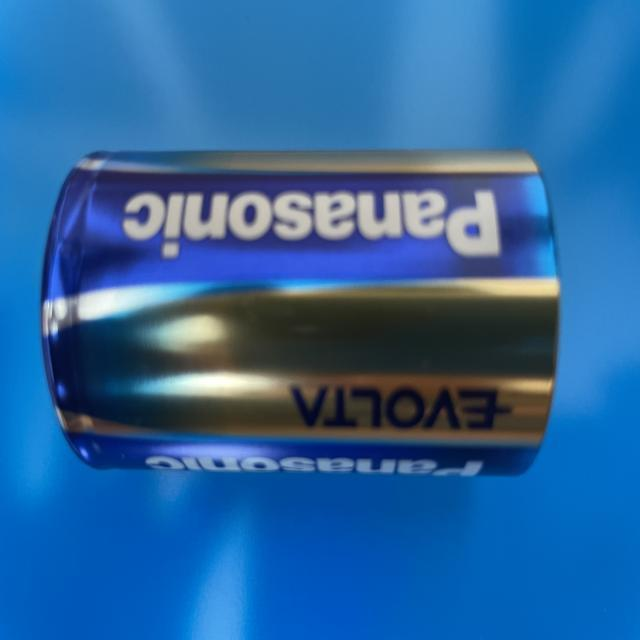Hazard: (36, 146, 565, 484)
